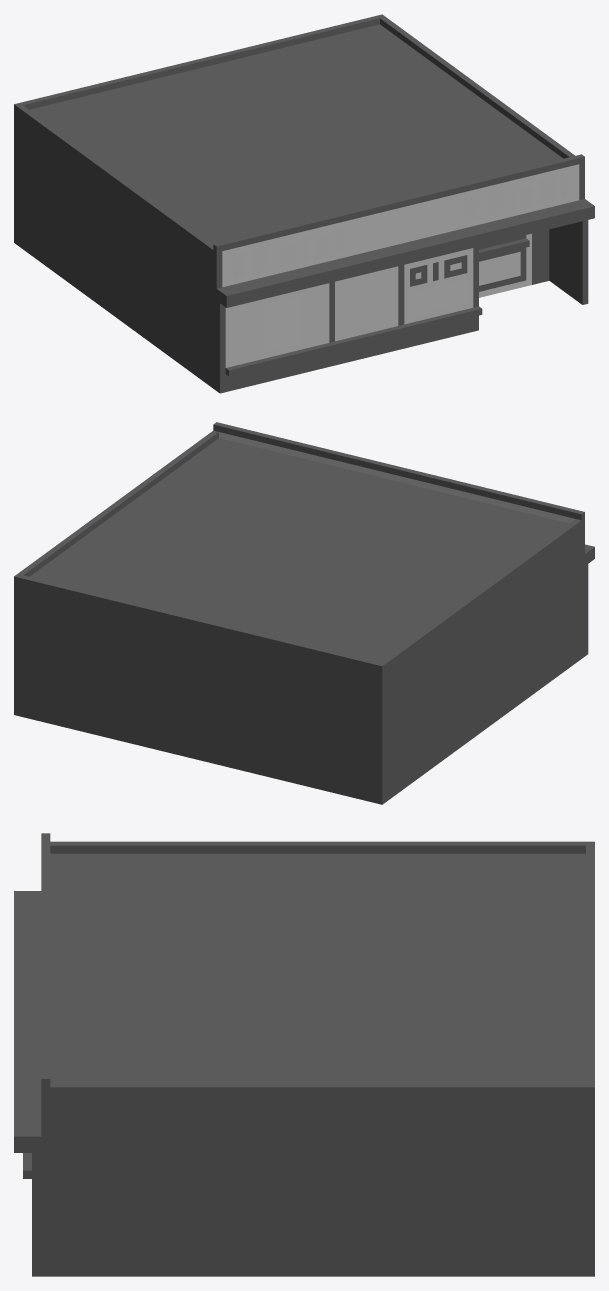
File: bld_store04.obj
3 views of the same model, one above another, from view 1: azimuth 30°, elevation 25°; view 2: azimuth 150°, elevation 25°; view 3: azimuth 270°, elevation 25° (orthographic). The views are drawn at different scales.
Bounding box in the file's own units: 64 × 24 × 64.
